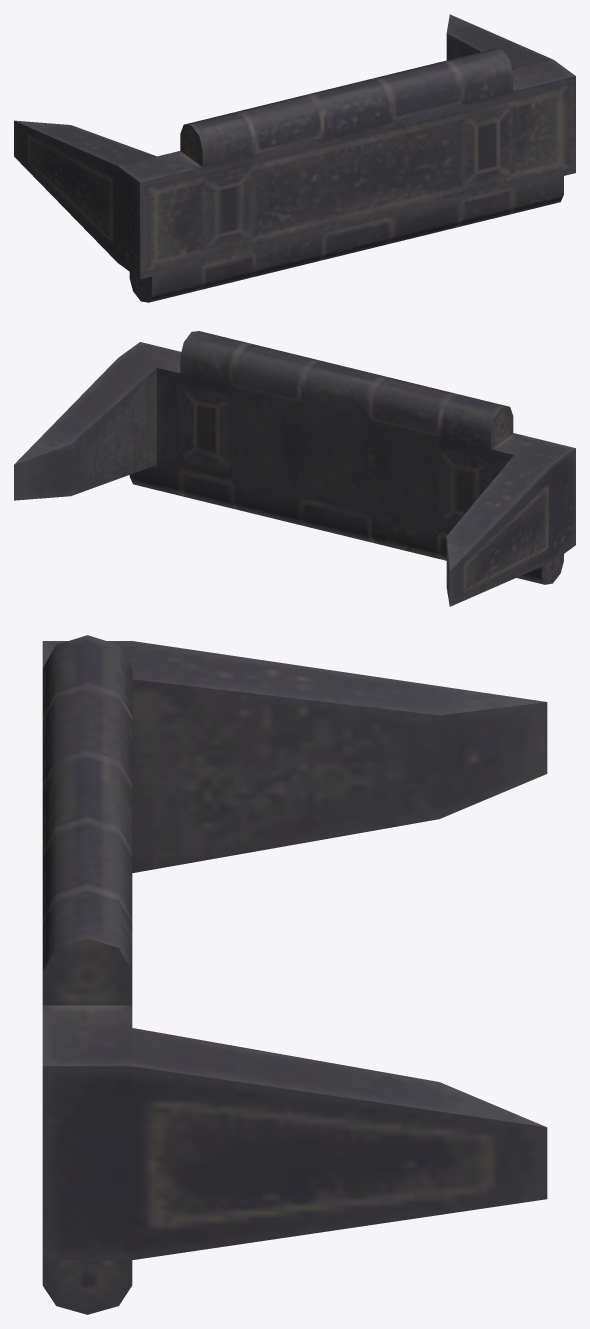
3 renders of one model, top to bottom at view 1: azimuth 30°, elevation 25°; view 2: azimuth 150°, elevation 25°; view 3: azimuth 270°, elevation 25°, orthographic. The views are drawn at different scales.
Parts seen in each view (by area): view 1: set_0_group_0; view 2: set_0_group_0; view 3: set_0_group_0.
Boxes of the visible parts, left/top/right/bottom form: set_0_group_0: left=14, top=14, right=575, bottom=302; set_0_group_0: left=14, top=331, right=575, bottom=606; set_0_group_0: left=42, top=635, right=547, bottom=1314.
Bounding box in the file's own units: 0.32 × 0.1147 × 0.1605.
1 material, 1 textured.
